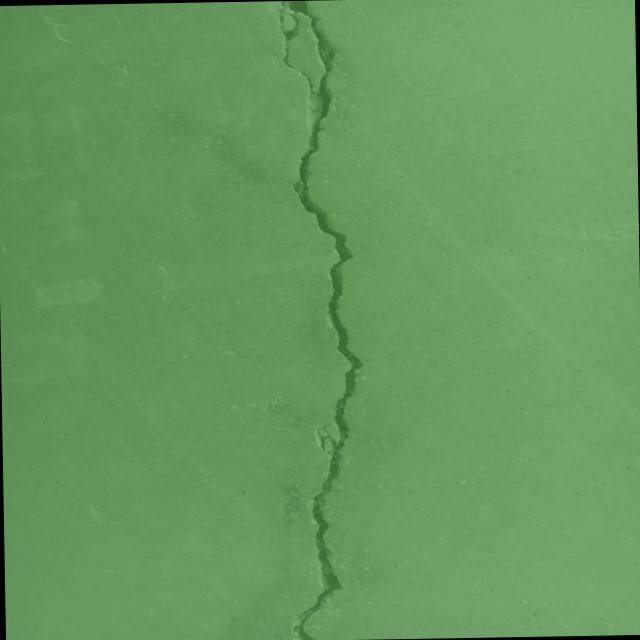crack: (268, 0, 367, 640)
